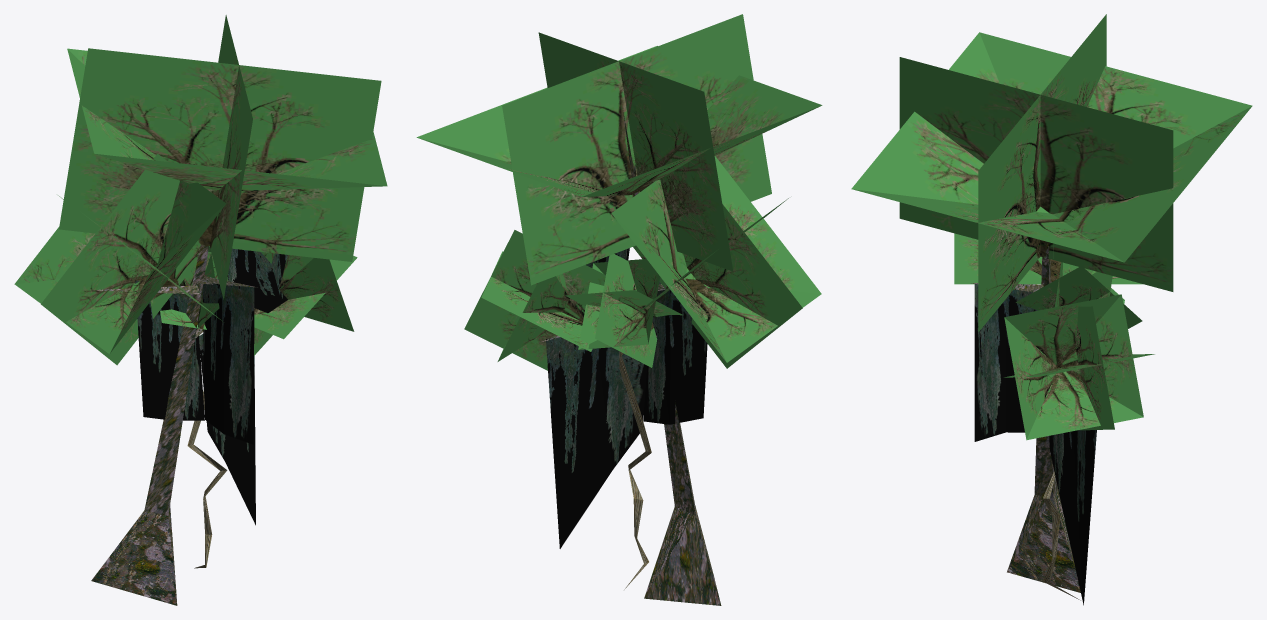
File: decd_mosstreeflaredtilted_l3.fbx
3 views of the same model, side by side, from view 1: azimuth 30°, elevation 25°; view 2: azimuth 150°, elevation 25°; view 3: azimuth 270°, elevation 25° (orthographic). The views are drawn at different scales.
Parts seen in each view (by area): view 1: mesh_node; view 2: mesh_node; view 3: mesh_node.
Part boxes in pixels (x1=…): mesh_node: x1=14, y1=15, x2=387, y2=605; mesh_node: x1=416, y1=14, x2=822, y2=605; mesh_node: x1=851, y1=14, x2=1252, y2=605.
Size of the model in its own units: 11.49 by 16.61 by 11.12.
